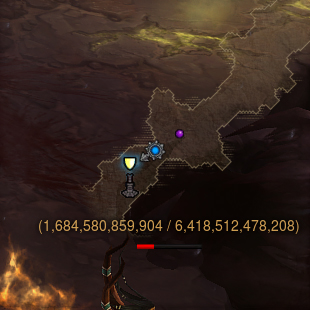ShieldPylon: (122, 157, 138, 198)
